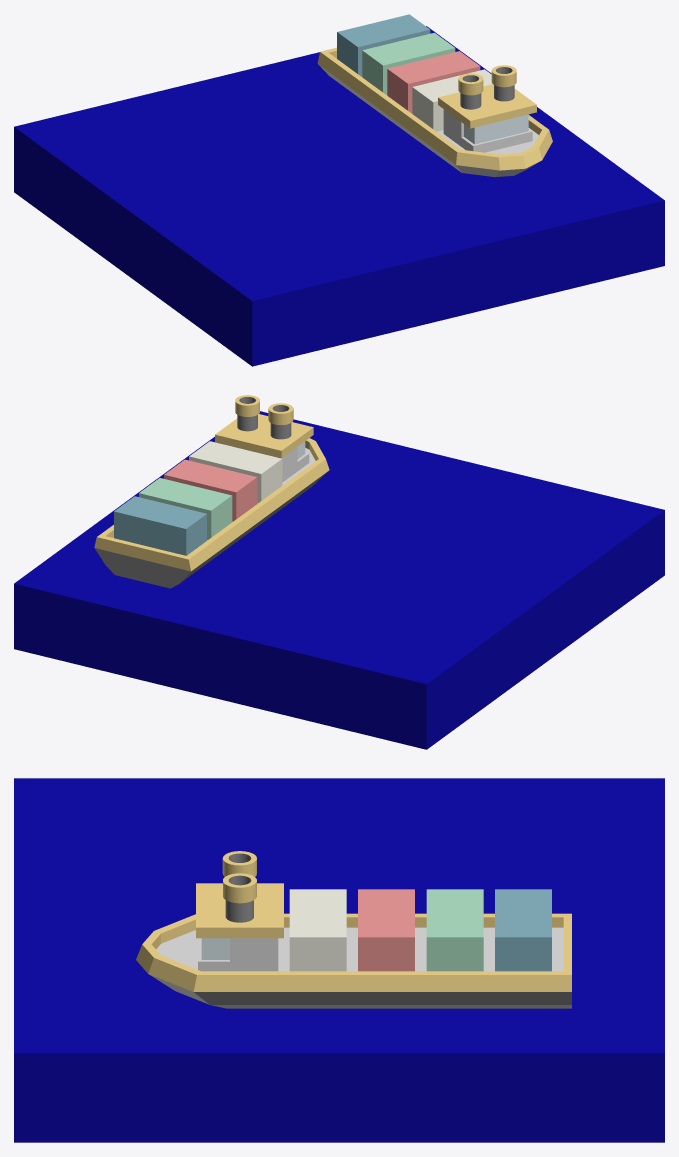
Rendered from deepWater.glb.
The picture shows the model from 3 angles, top to bottom: view 1: azimuth 30°, elevation 25°; view 2: azimuth 150°, elevation 25°; view 3: azimuth 270°, elevation 25°; orthographic projection. The views are drawn at different scales.
Visible parts, largest first — view 1: Mesh1 Group1 Model.302; view 2: Mesh1 Group1 Model.302; view 3: Mesh1 Group1 Model.302.
Boxes of the visible parts, left/top/right/bottom form: Mesh1 Group1 Model.302: left=14, top=14, right=664, bottom=366; Mesh1 Group1 Model.302: left=14, top=395, right=664, bottom=749; Mesh1 Group1 Model.302: left=14, top=778, right=664, bottom=1142.
Bounding box in the file's own units: 12 × 4.28 × 12.
